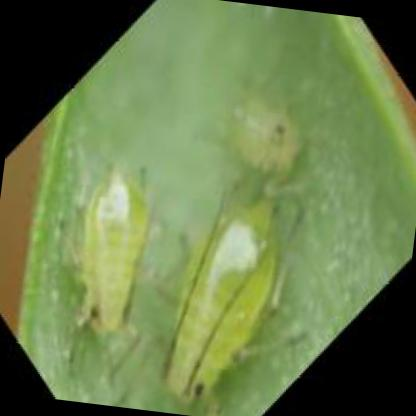schizaphis graminum: (161, 195, 282, 404), (82, 163, 144, 342)
